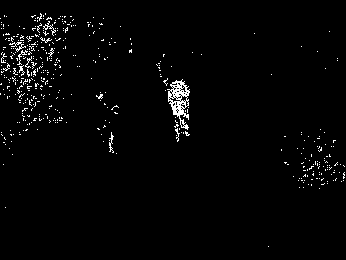person: (167, 80, 194, 142)
